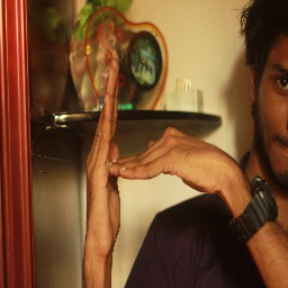Z: (77, 55, 233, 256)
